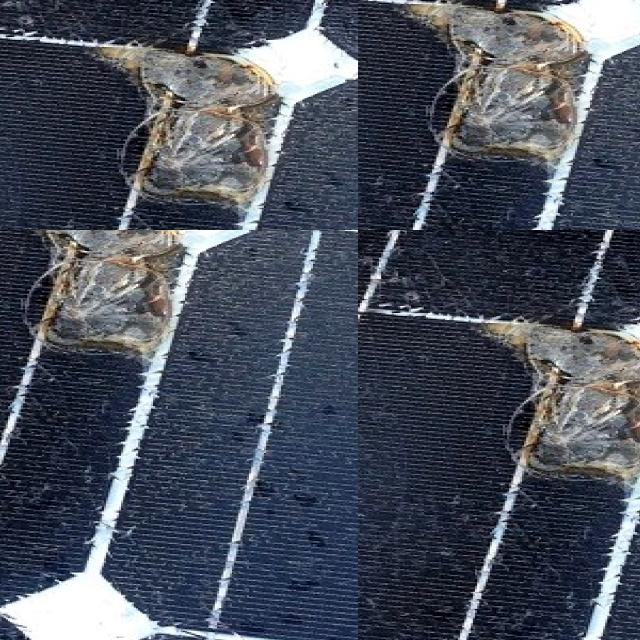shadow: (437, 272, 640, 506), (44, 230, 358, 330)
